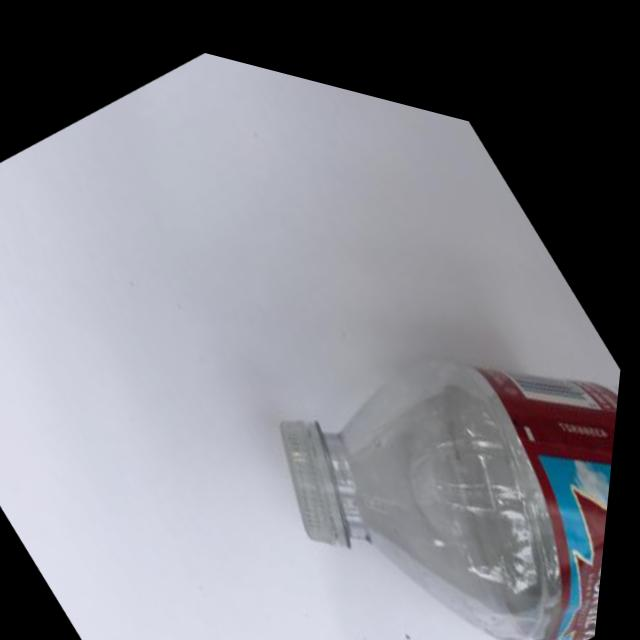plastic: (160, 125, 634, 640)
